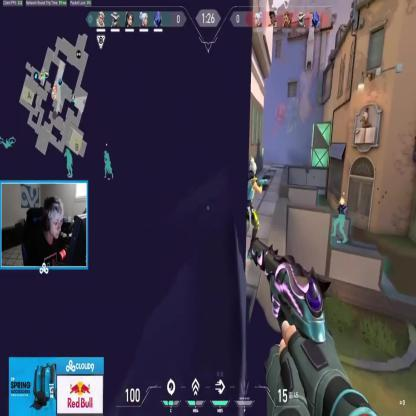enemy: (236, 156, 260, 266)
enemy_head: (249, 156, 257, 174)
